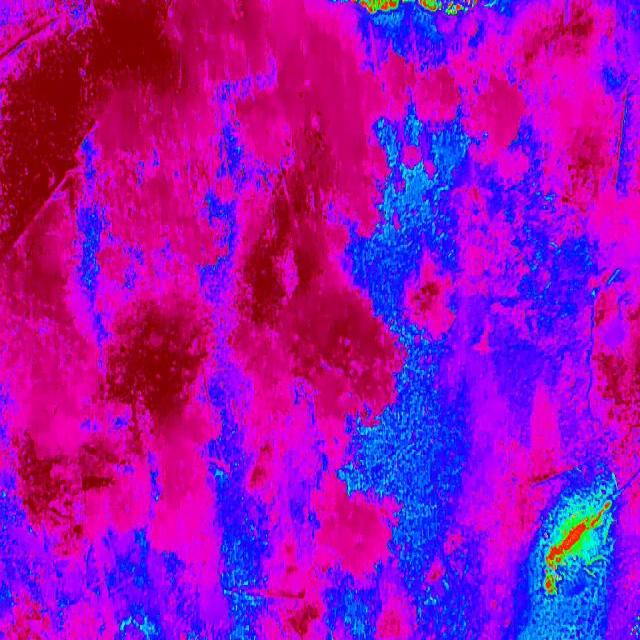fire: (531, 476, 619, 602), (355, 0, 484, 20)
